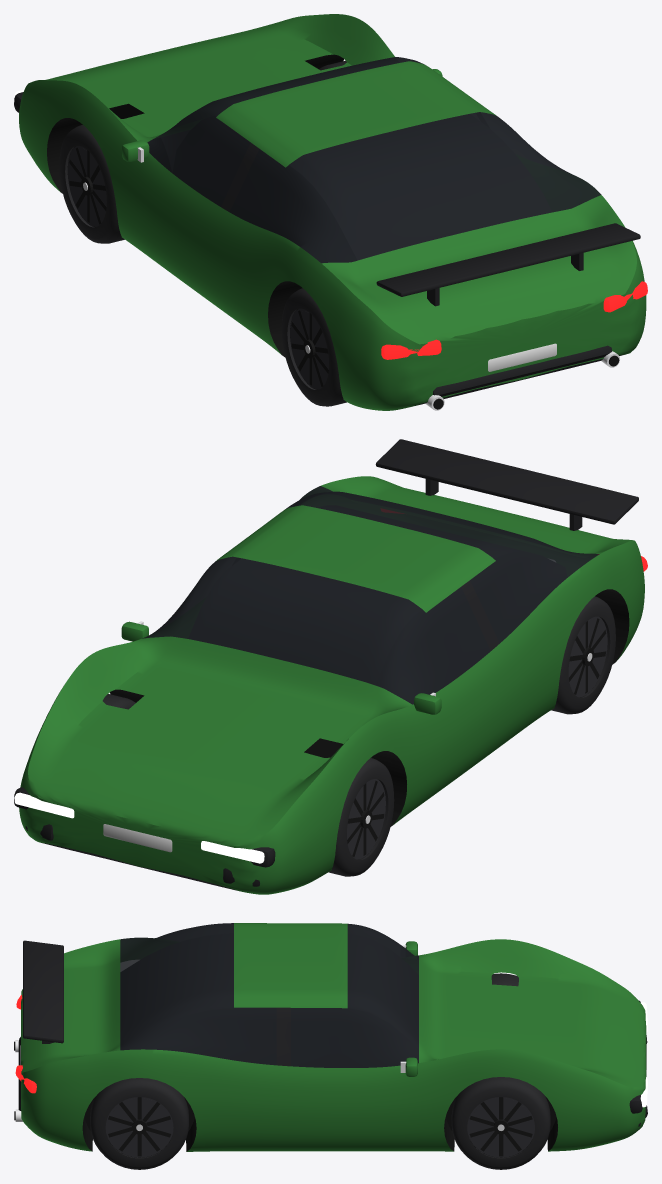
The model's file is mercedes_amg_gtr.glb.
3 views of the same model, one above another, from view 1: azimuth 30°, elevation 25°; view 2: azimuth 150°, elevation 25°; view 3: azimuth 270°, elevation 25° (orthographic). The views are drawn at different scales.
Visible parts, largest first — view 1: Body, Wheel_FL, Wheel_RL; view 2: Body, Wheel_FL, Wheel_RL; view 3: Body, Wheel_FR, Wheel_RR.
Boxes of the visible parts, x1,y1,x2,y2 form: Body: (14, 14, 647, 410); Wheel_FL: (59, 125, 124, 243); Wheel_RL: (281, 288, 346, 406); Body: (14, 439, 647, 894); Wheel_FL: (328, 758, 394, 876); Wheel_RL: (551, 596, 615, 714); Body: (14, 923, 647, 1151); Wheel_FR: (451, 1077, 550, 1169); Wheel_RR: (90, 1078, 188, 1169).
Size of the model in its own units: 2.16 by 1.28 by 4.61.
